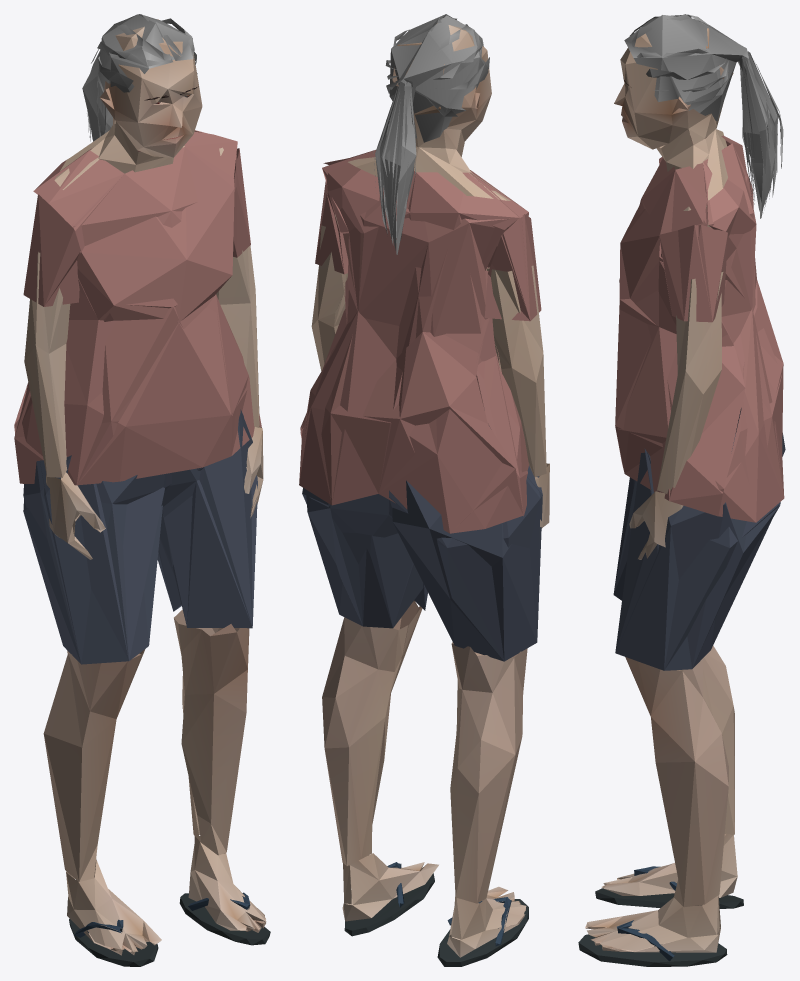
Rendered from person-12-far.glb.
3 views of the same model, side by side, from view 1: azimuth 30°, elevation 25°; view 2: azimuth 150°, elevation 25°; view 3: azimuth 270°, elevation 25° (orthographic).
Visible parts, largest first — view 1: person-12 far; view 2: person-12 far; view 3: person-12 far.
Part boxes in pixels (x1,y1,x2,y2): person-12 far: (14, 14, 270, 966); person-12 far: (299, 14, 549, 966); person-12 far: (578, 14, 785, 966).
Size of the model in its own units: 0.4064 by 1.57 by 0.3239.
